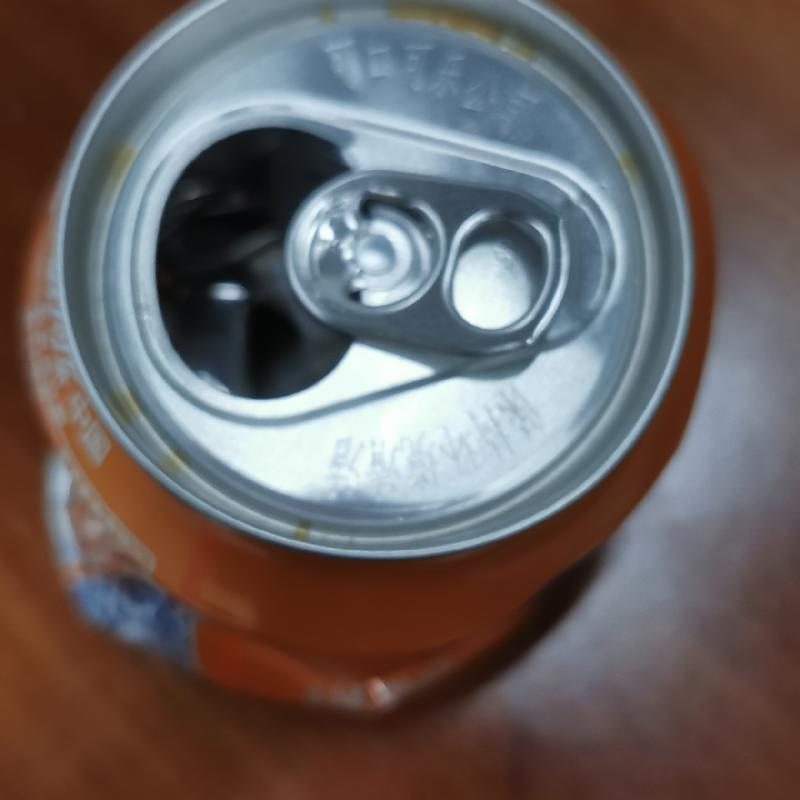cans: (14, 2, 717, 718)
